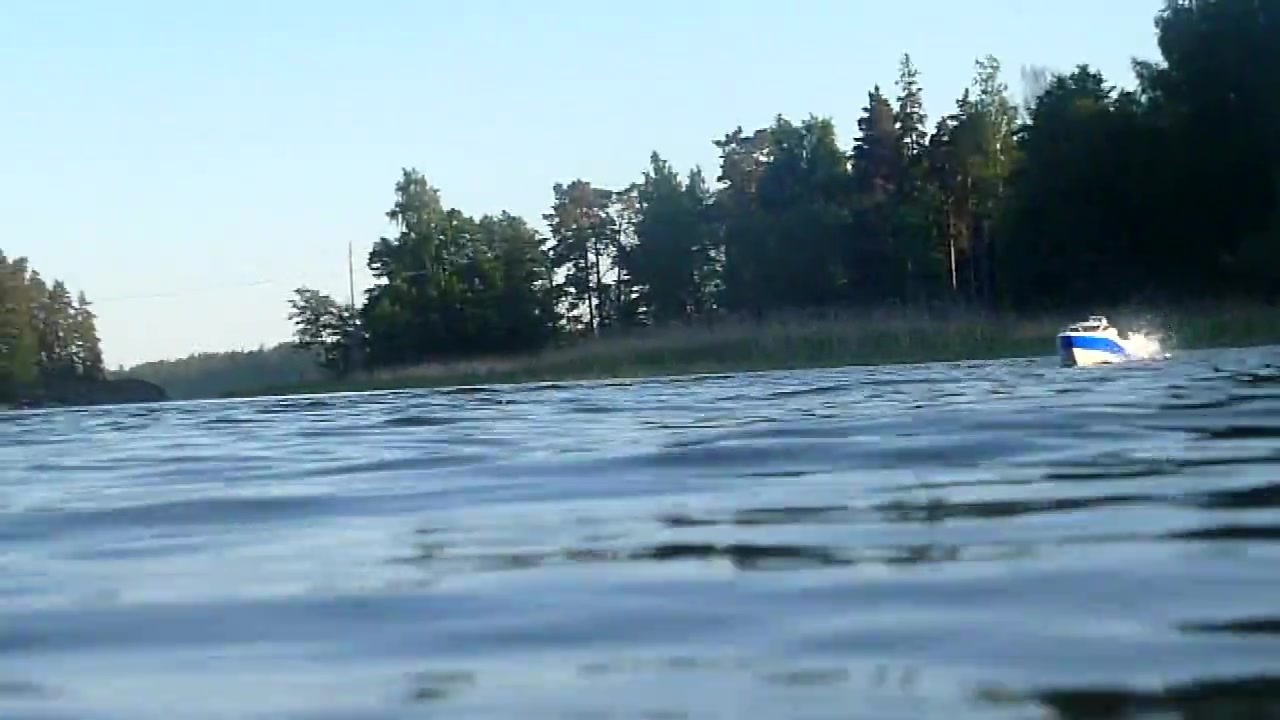boat: (1055, 316, 1131, 370)
